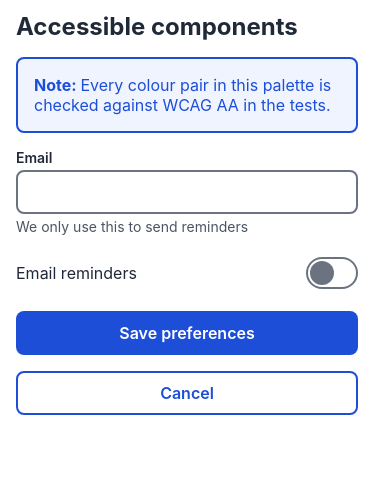
Test: the example form › says "Preferences saved" only after a save finishes, not when an error is fixed
Type "alex@mail" into the field named "Email" at (187, 192), box [16,170,358,214]
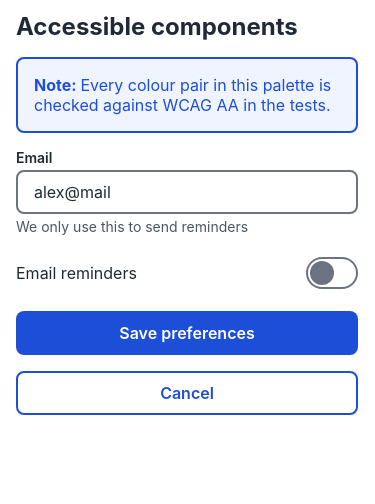
Click the button "Save preferences" at (187, 333), box [16,311,358,355]
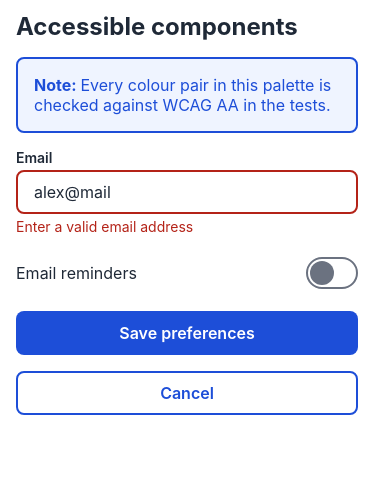
Check: the text "Enter a valid email address" is shown, box [16,218,193,235]
Note: Fixing the address clears the error but has not saved anything yet
Replace the text in the field named "Email" with "alex@mail.com" at (187, 192), box [16,170,358,214]
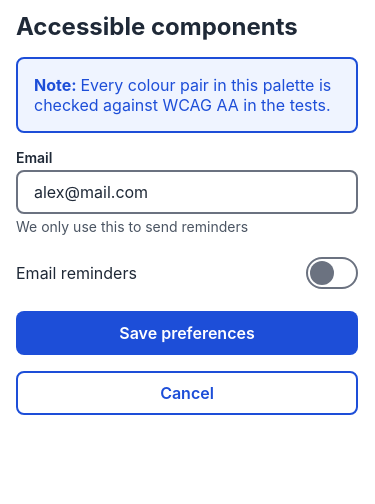
Check: the text "Preferences saved" is not shown
Click the button "Save preferences" at (187, 333), box [16,311,358,355]
Wait 1200 ms
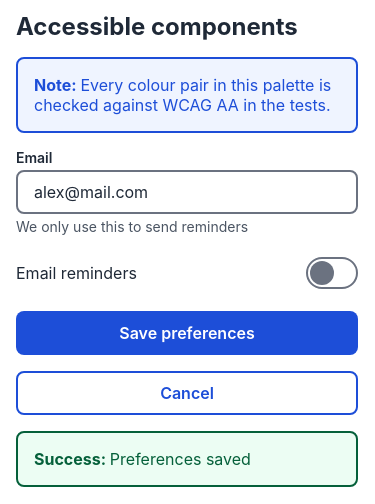
Check: the text "Success: Preferences saved" is shown, box [34,449,251,469]
